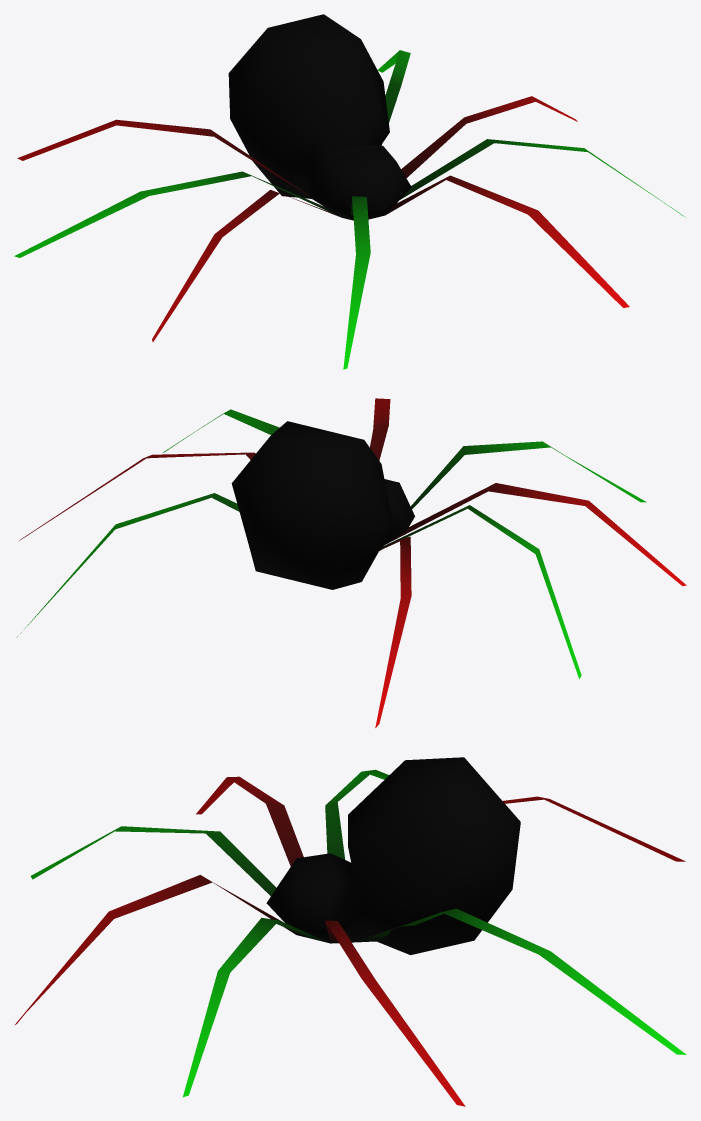
The model's file is BlackWidow.fbx.
The picture shows the model from 3 angles, top to bottom: view 1: azimuth 30°, elevation 25°; view 2: azimuth 150°, elevation 25°; view 3: azimuth 270°, elevation 25°; orthographic projection. The views are drawn at different scales.
Parts seen in each view (by area): view 1: BlackWidow; view 2: BlackWidow; view 3: BlackWidow.
Boxes of the visible parts, bbox=[...] form: BlackWidow: bbox=[14, 14, 685, 369]; BlackWidow: bbox=[16, 398, 686, 727]; BlackWidow: bbox=[14, 757, 686, 1106].
Size of the model in its own units: 0.732 by 0.2097 by 0.6914.
